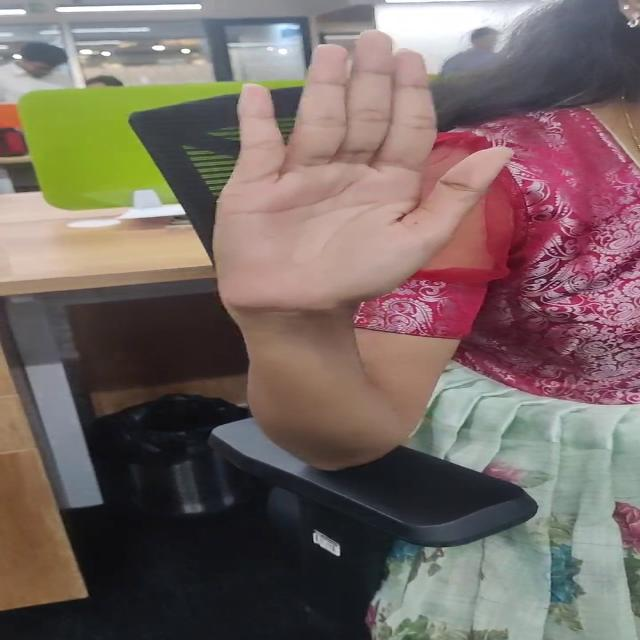no-gloves: (203, 19, 531, 326)
